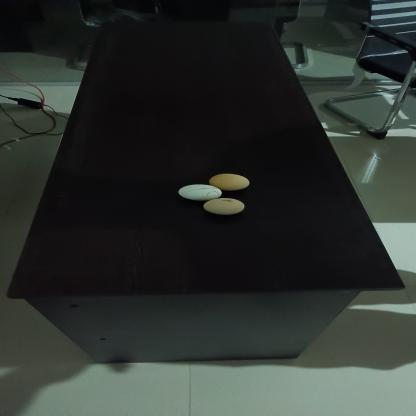egg: (208, 172, 254, 192), (204, 197, 245, 216), (178, 185, 224, 201)
